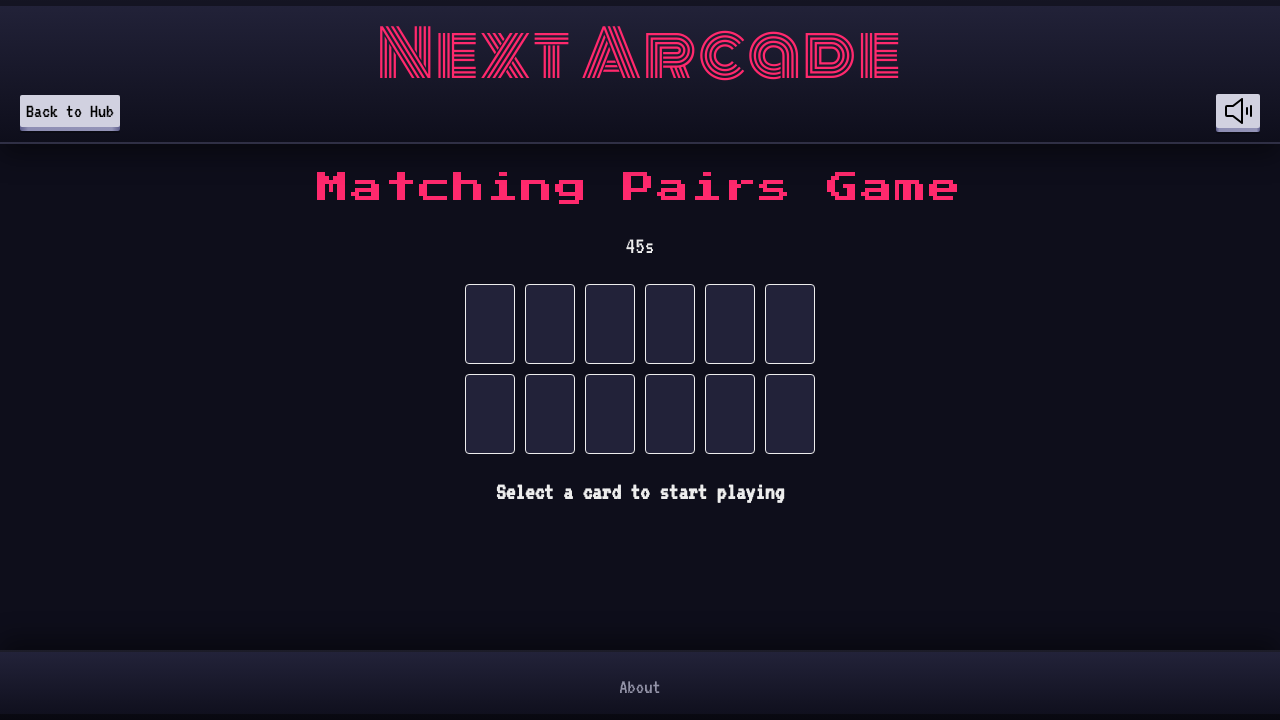
it: Matching Pairs Game › flips cards when clicked
// Click first card
Click the 1st element with test id "mp-card" at (490, 324), box top-left (465, 284), bottom-right (515, 364)
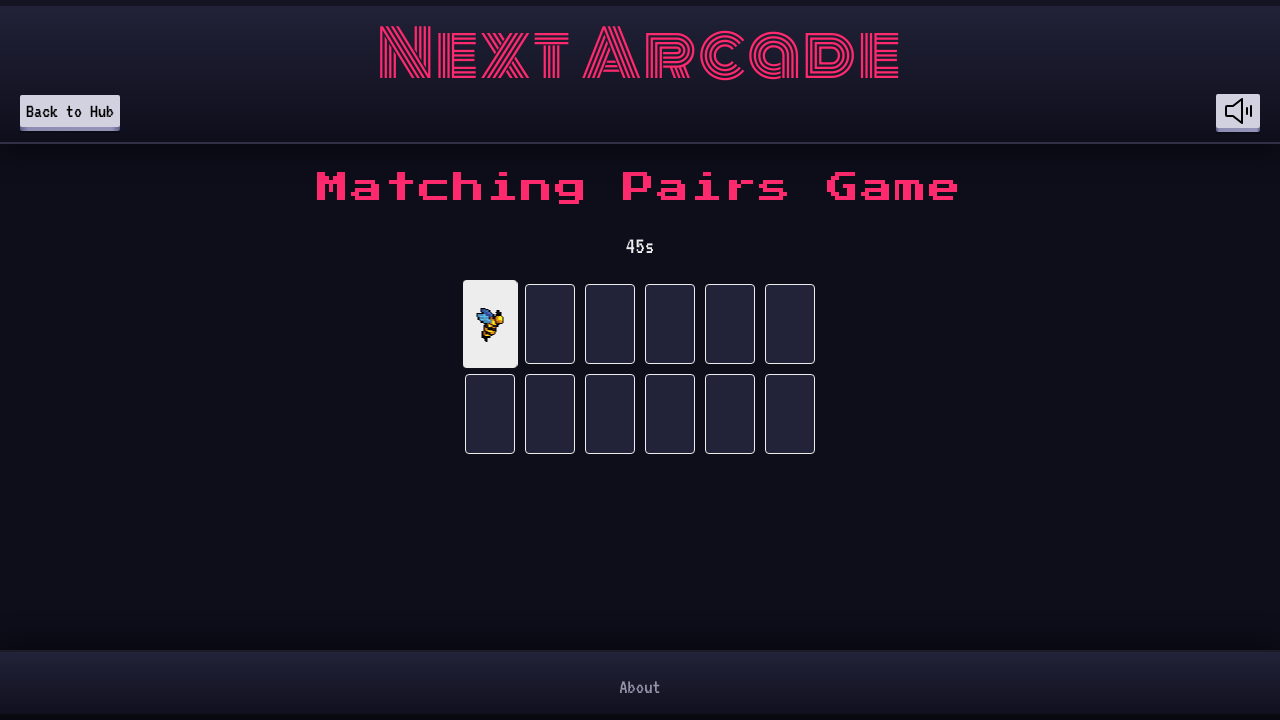
Expected: the picture named "bee icon" is shown, top-left (468, 302), bottom-right (512, 346)
